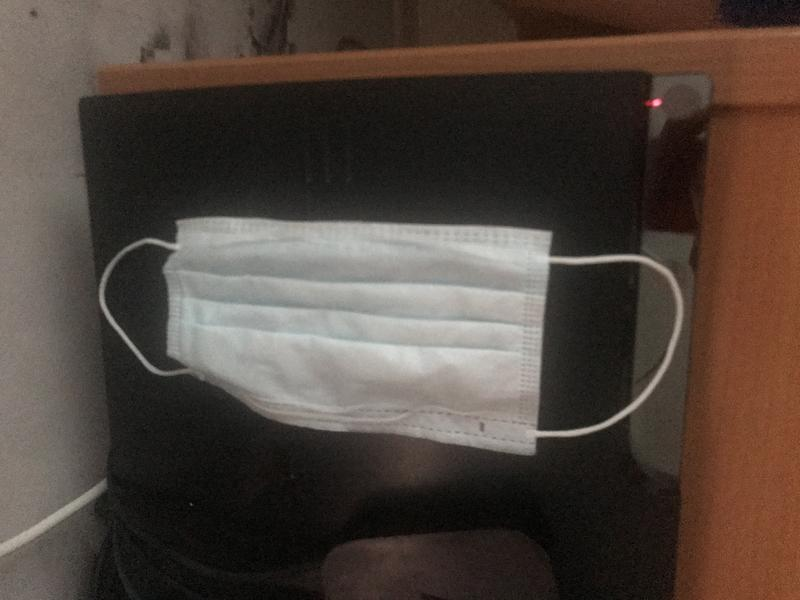medical_mask: (98, 216, 685, 458)
